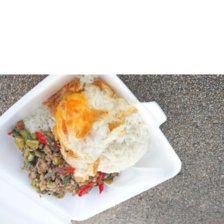foam_box: (0, 74, 186, 224)
